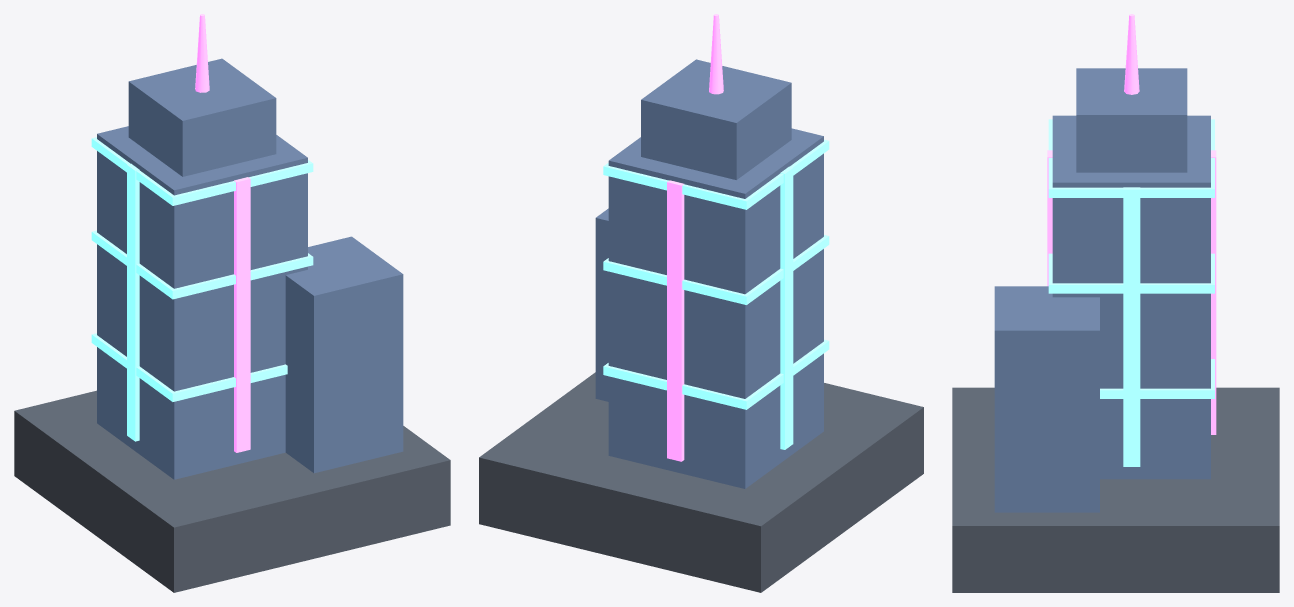
The model's file is prop_neon_tower.glb.
3 renders of one model, left to right at view 1: azimuth 30°, elevation 25°; view 2: azimuth 150°, elevation 25°; view 3: azimuth 270°, elevation 25°, orthographic. The views are drawn at different scales.
Visible parts, largest first — view 1: PropNeonTower; view 2: PropNeonTower; view 3: PropNeonTower.
Part boxes in pixels (x1,y1,x2,y2): PropNeonTower: (14,14,450,592); PropNeonTower: (479,14,923,592); PropNeonTower: (952,14,1279,592).
Size of the model in its own units: 0.62 by 1.04 by 0.62.
